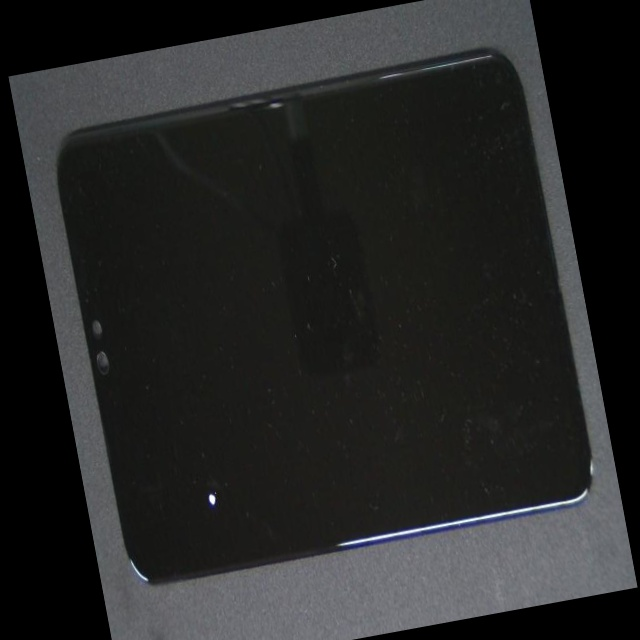stain: (96, 247, 287, 640)
